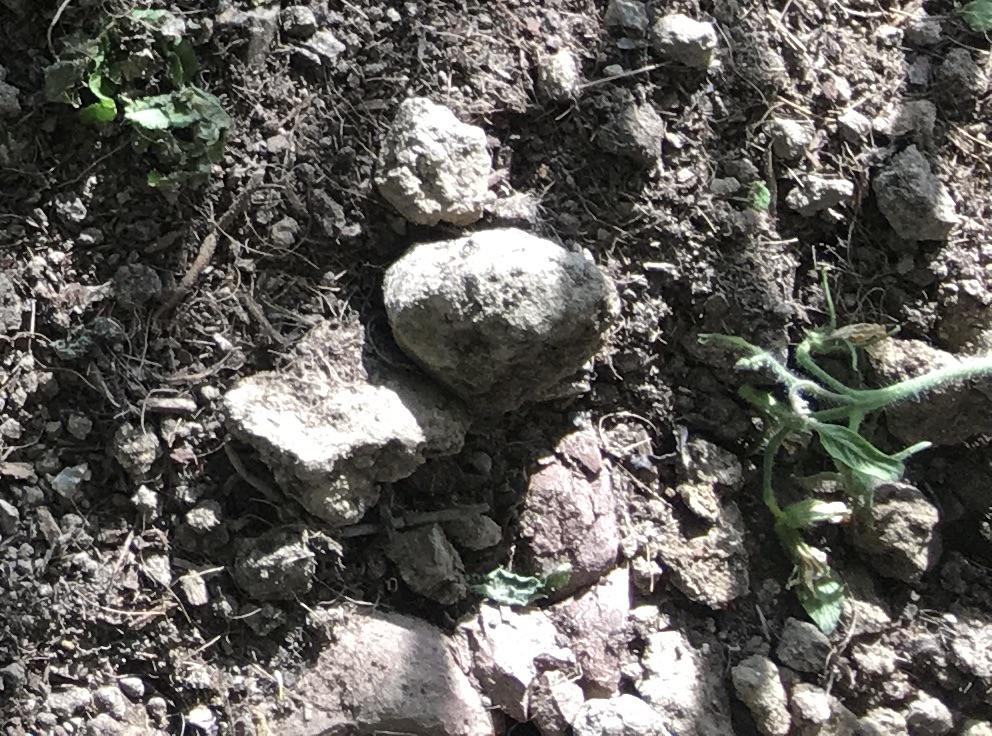block: (381, 229, 619, 410), (219, 362, 472, 525), (363, 96, 497, 225)
